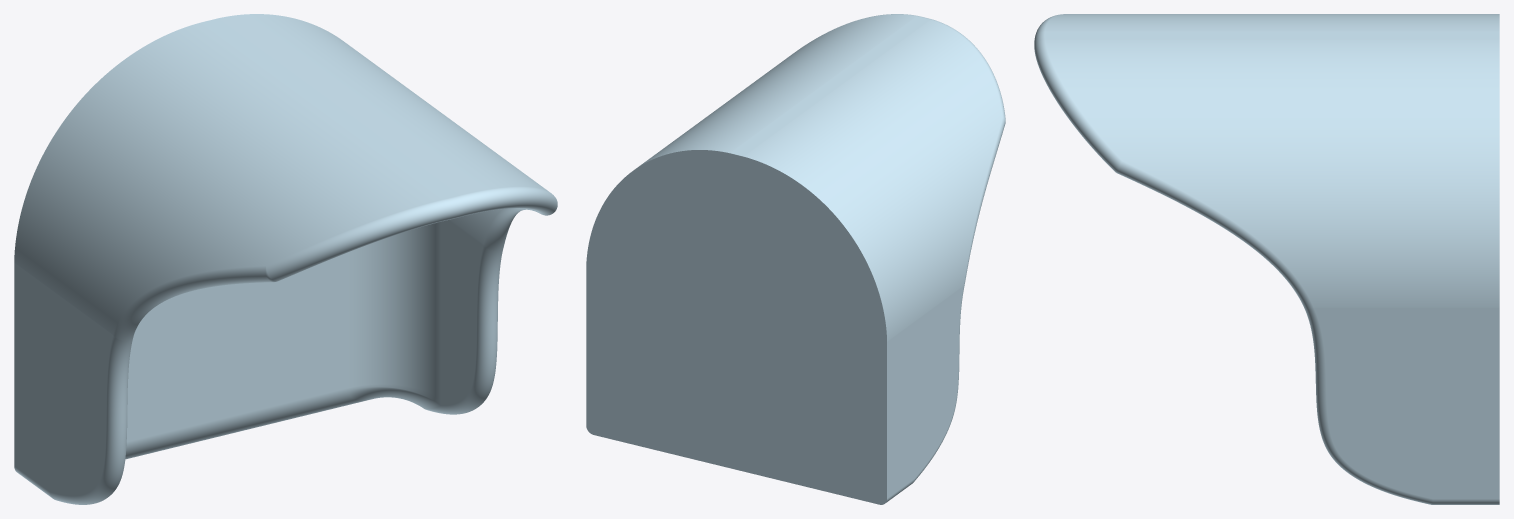
The model's file is Assembly 1 - Part 1 (1).gltf.
3 renders of one model, left to right at view 1: azimuth 30°, elevation 25°; view 2: azimuth 150°, elevation 25°; view 3: azimuth 270°, elevation 25°, orthographic. The views are drawn at different scales.
Visible parts, largest first — view 1: Part 1; view 2: Part 1; view 3: Part 1.
Boxes of the visible parts, x1=… form: Part 1: x1=14, y1=14, x2=557, y2=504; Part 1: x1=586, y1=14, x2=1005, y2=504; Part 1: x1=1034, y1=14, x2=1499, y2=504.
Size of the model in its own units: 1 by 1 by 1.1.
